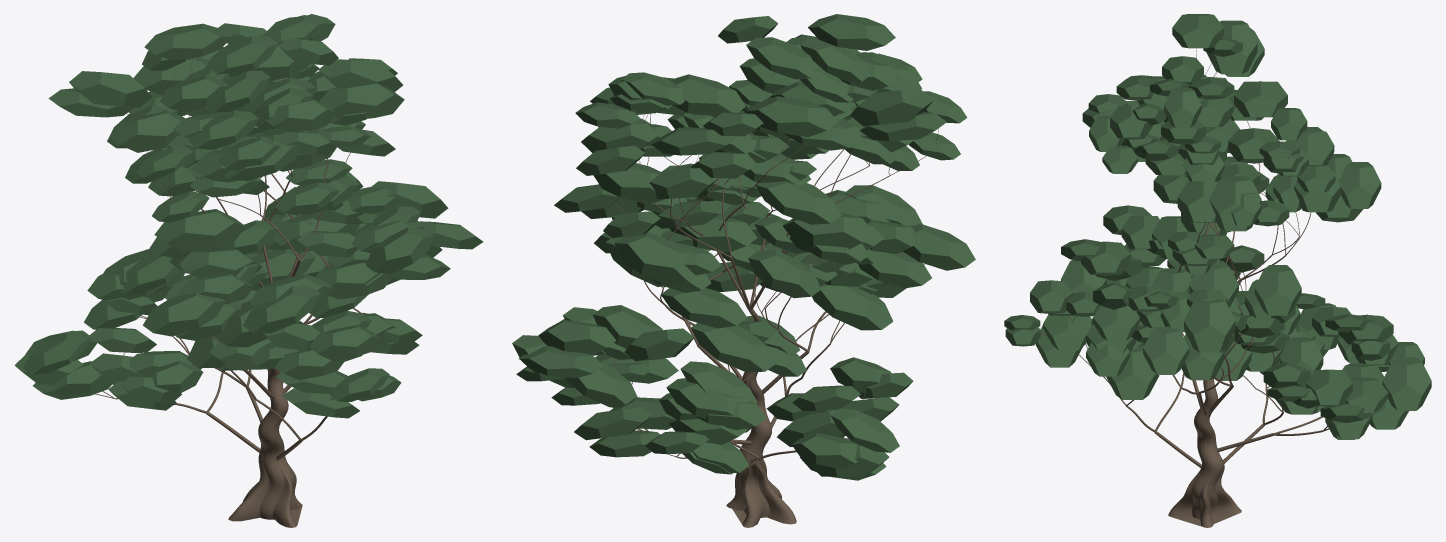
Rendered from tree_2026-04-26T09-27-03-552Z.glb.
The picture shows the model from 3 angles, left to right: view 1: azimuth 30°, elevation 25°; view 2: azimuth 150°, elevation 25°; view 3: azimuth 270°, elevation 25°; orthographic projection. The views are drawn at different scales.
Parts seen in each view (by area): view 1: rainforest_giant; view 2: rainforest_giant; view 3: rainforest_giant.
Part boxes in pixels (x1,y1,x2,y2): rainforest_giant: [14, 14, 483, 527]; rainforest_giant: [512, 14, 975, 527]; rainforest_giant: [1004, 14, 1431, 527].
Size of the model in its own units: 144 by 180 by 154.
